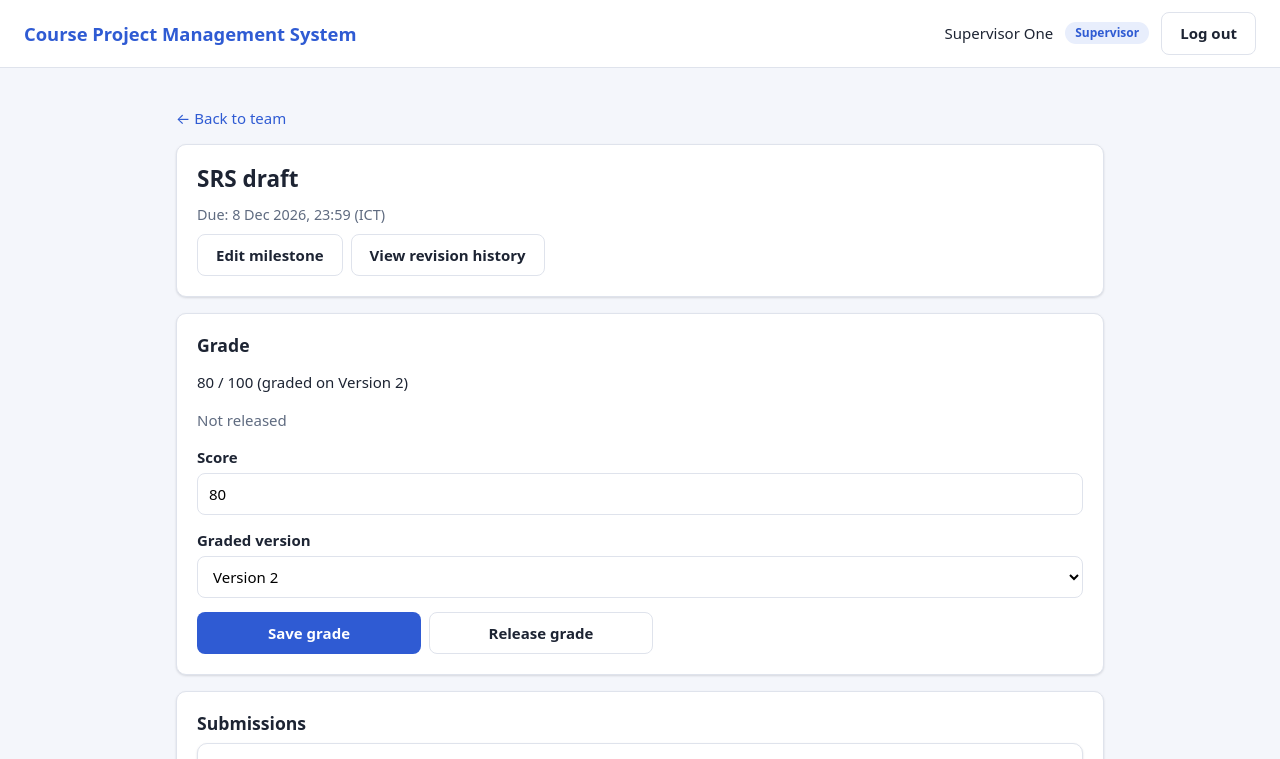
F-08 Grades UI › TEST-08-18: a release of a grade changed elsewhere shows the reason and the current grade, then releases that grade
Expected: the text "80 / 100 (graded on Version 2)" is shown, left=197, top=372, right=408, bottom=392
Click the button "Release grade".
click(541, 633)  # box left=429, top=612, right=653, bottom=654
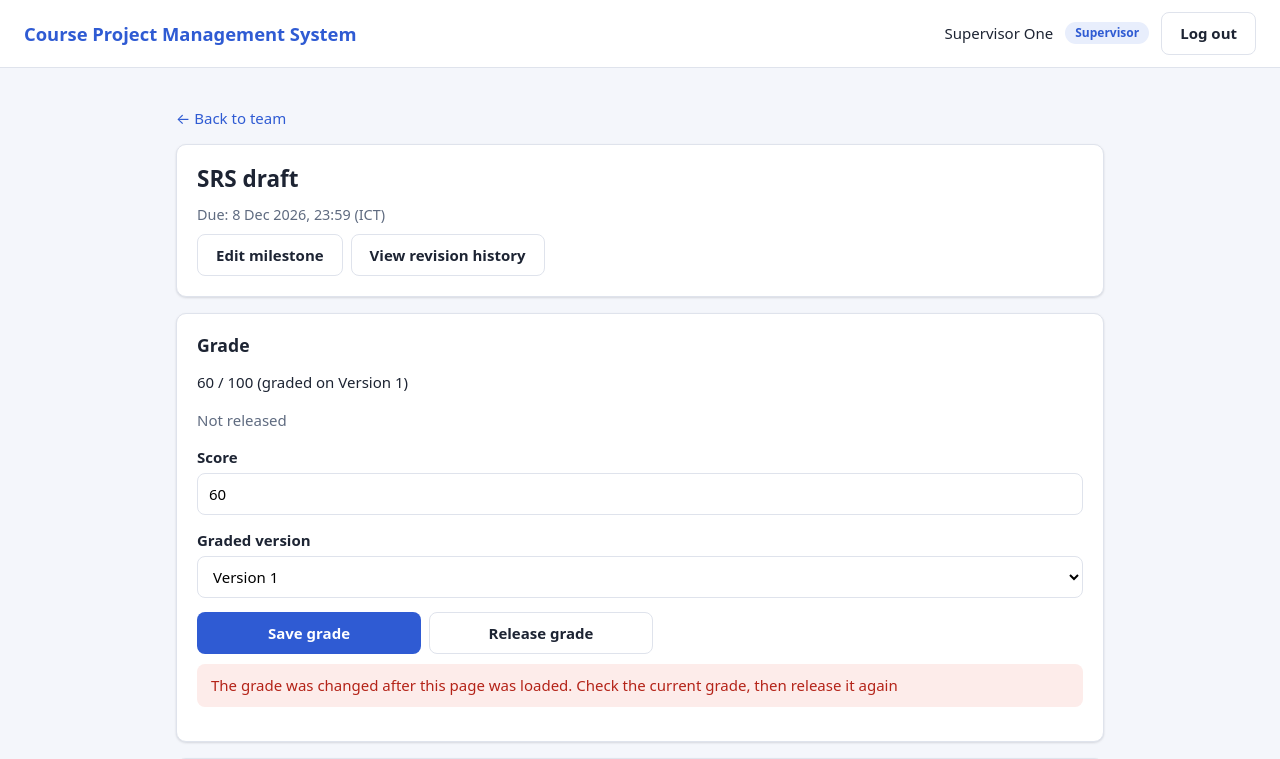
Expected: the message shows "The grade was changed after this page was loaded. Check the current grade, then release it again", left=211, top=676, right=898, bottom=696
Expected: the text "60 / 100 (graded on Version 1)" is shown, left=197, top=372, right=408, bottom=392
Expected: the number field labelled "Score" holds "60", left=197, top=473, right=1083, bottom=516
Click the button "Release grade".
click(541, 633)  # box left=429, top=612, right=653, bottom=654
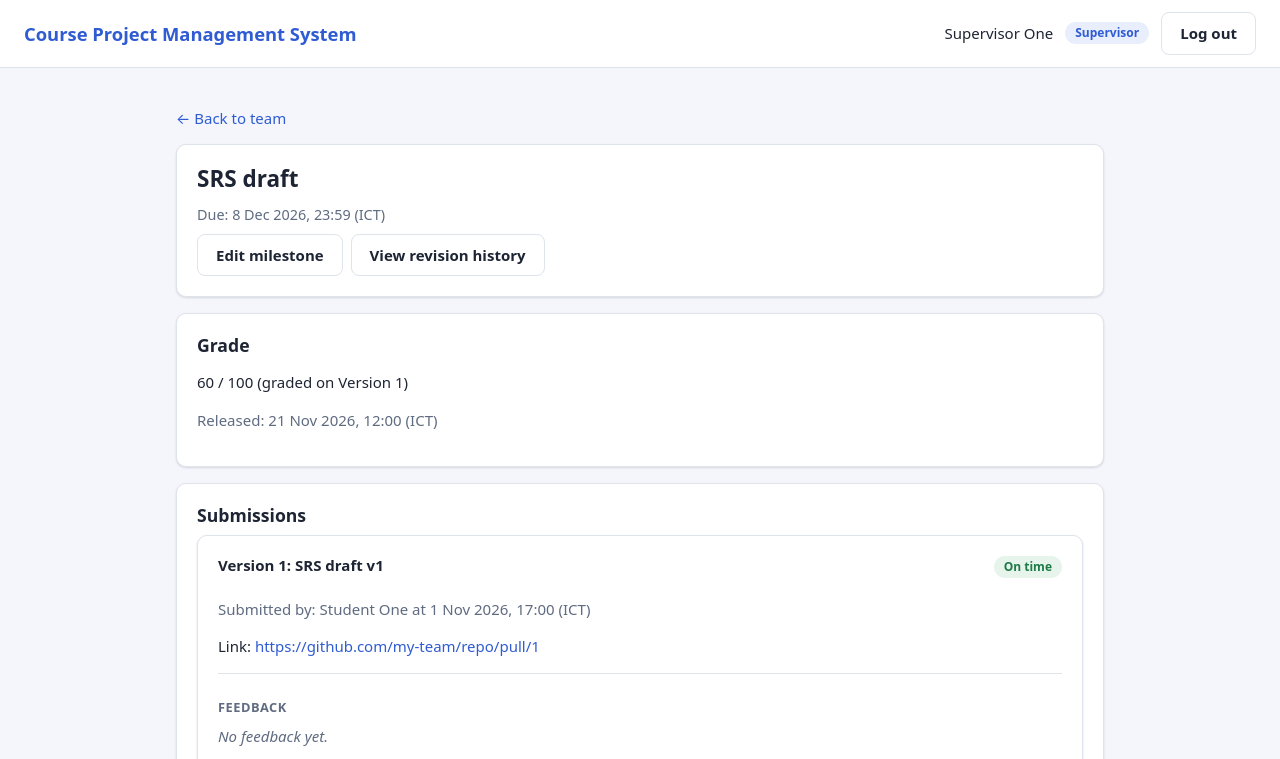
Expected: the text "Released: 21 Nov 2026, 12:00 (ICT)" is shown, left=197, top=410, right=438, bottom=430
